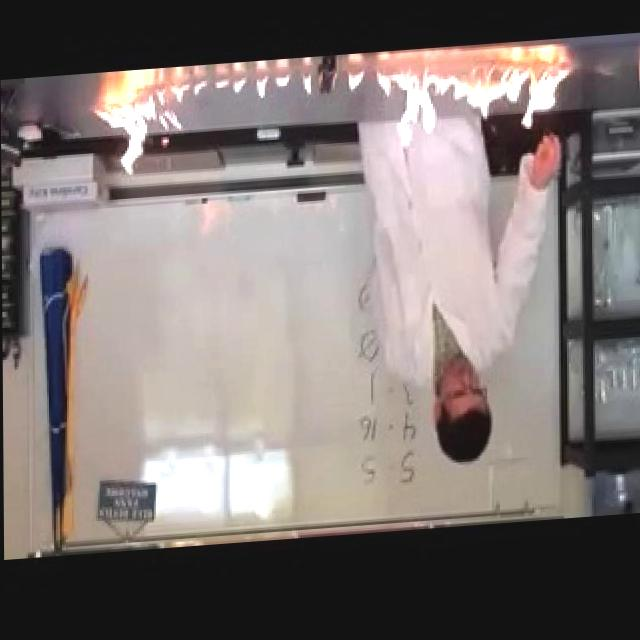helmet: (375, 64, 580, 159), (93, 80, 190, 185)
